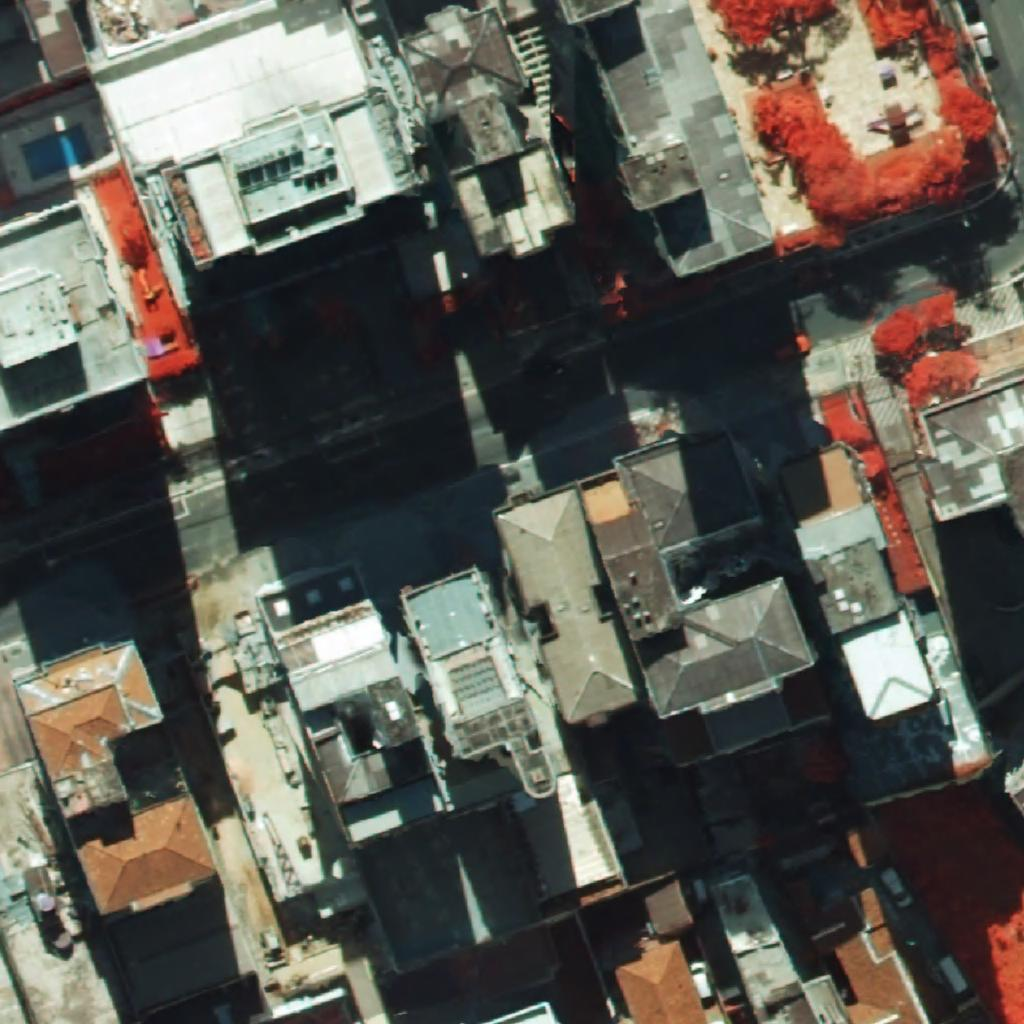pool: (22, 125, 93, 181)
